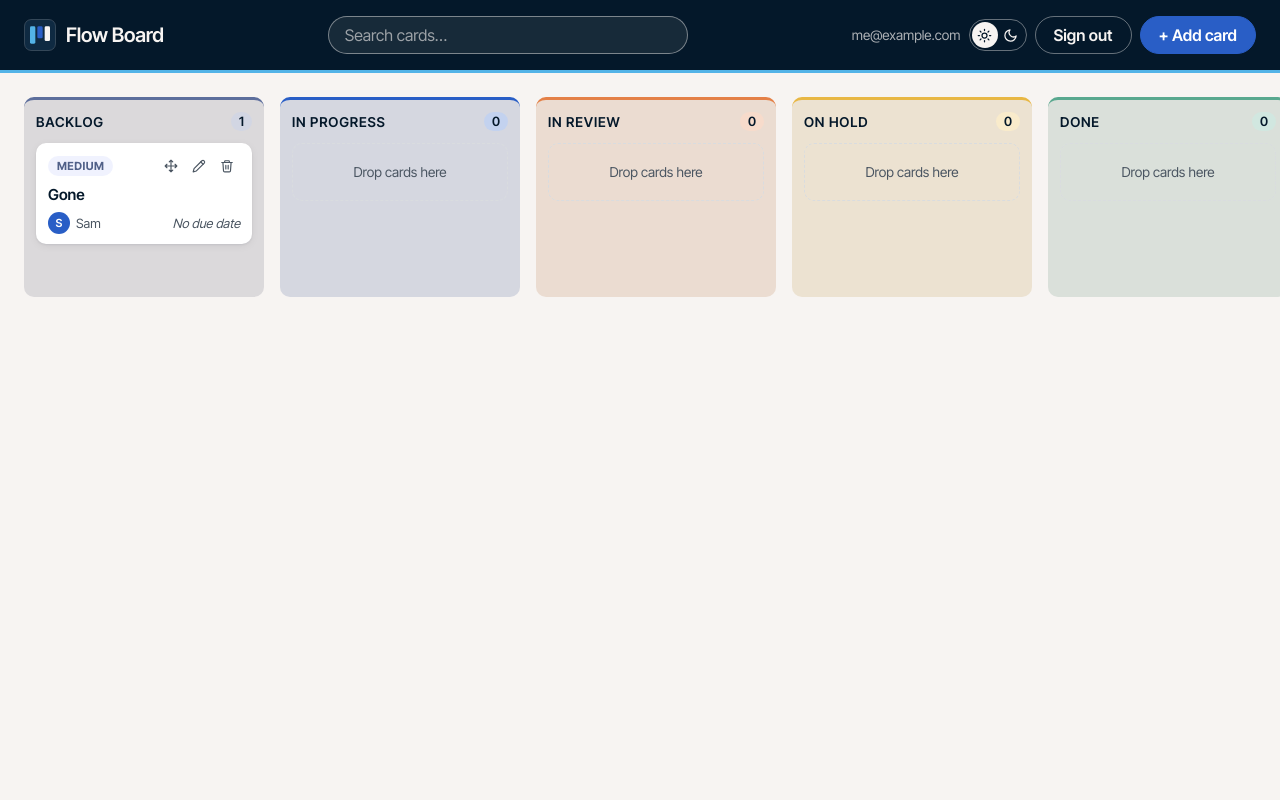
it: Status and loading (4.1.3) › puts the Undo toast inside a status region
Click the button named "Delete Gone" at (227, 166), box [214,153,240,179]
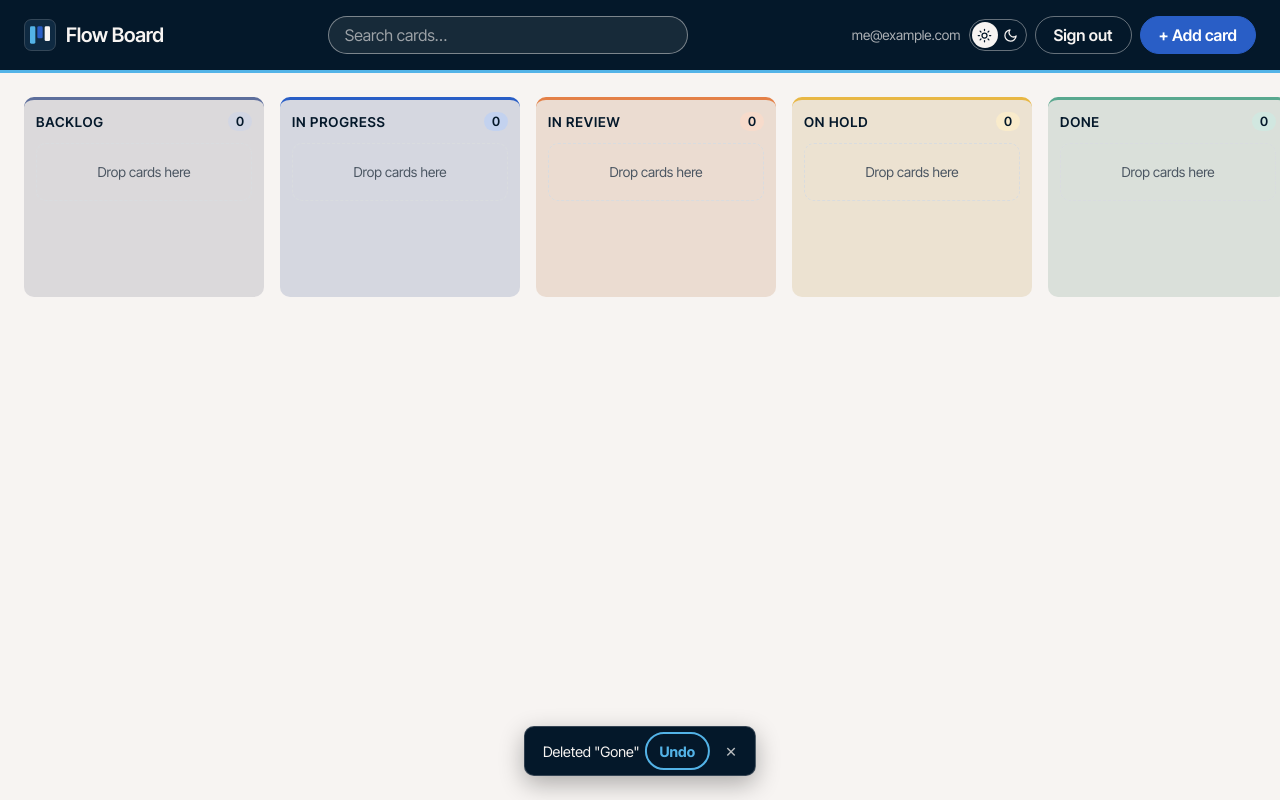
Now the button "Undo" is shown, box [648,735,707,767]
